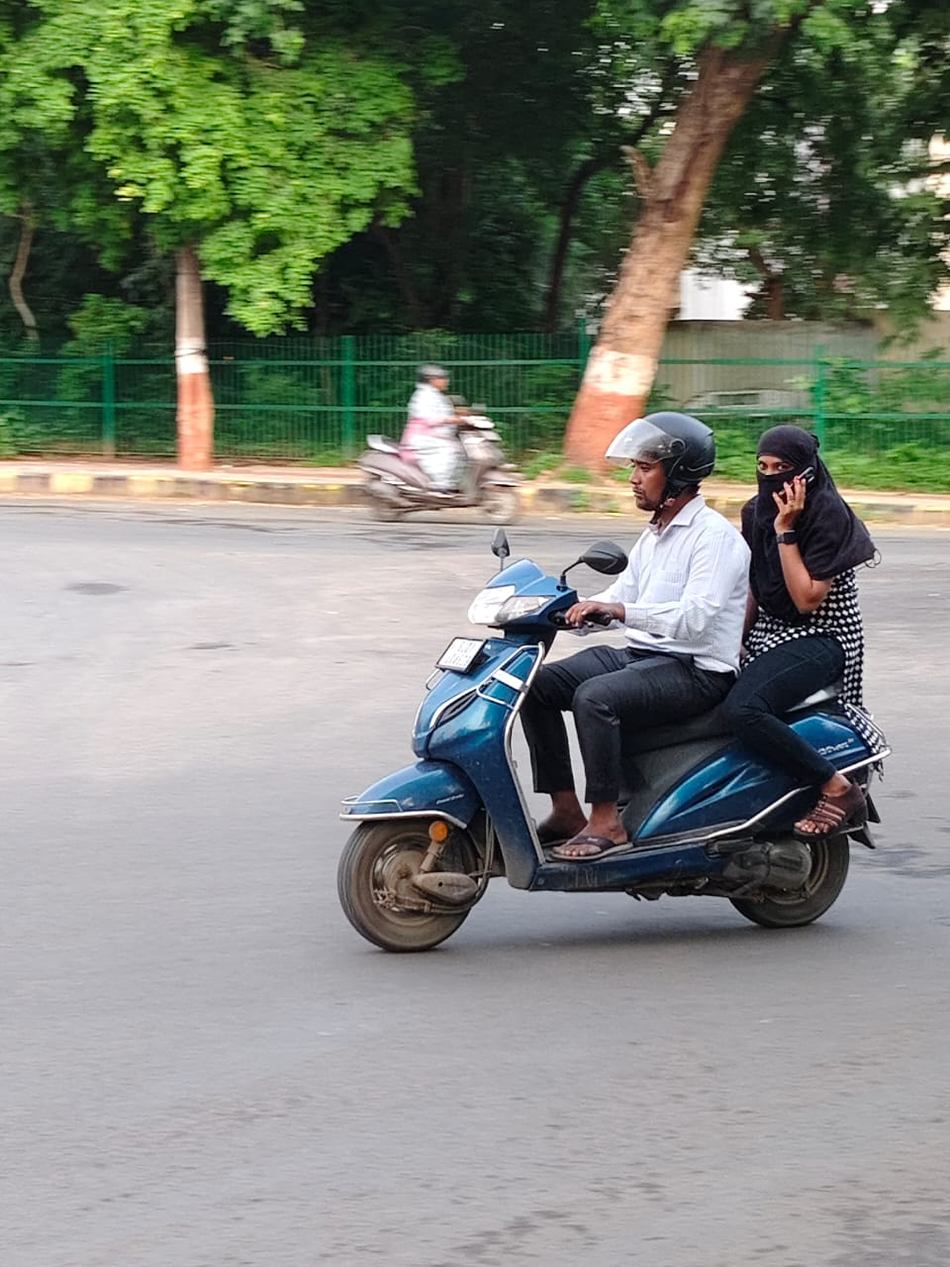BikeWithRider: (320, 399, 905, 961), (343, 356, 535, 530)
Helmet: (594, 402, 728, 519)
NoHelmet: (743, 417, 833, 518)
